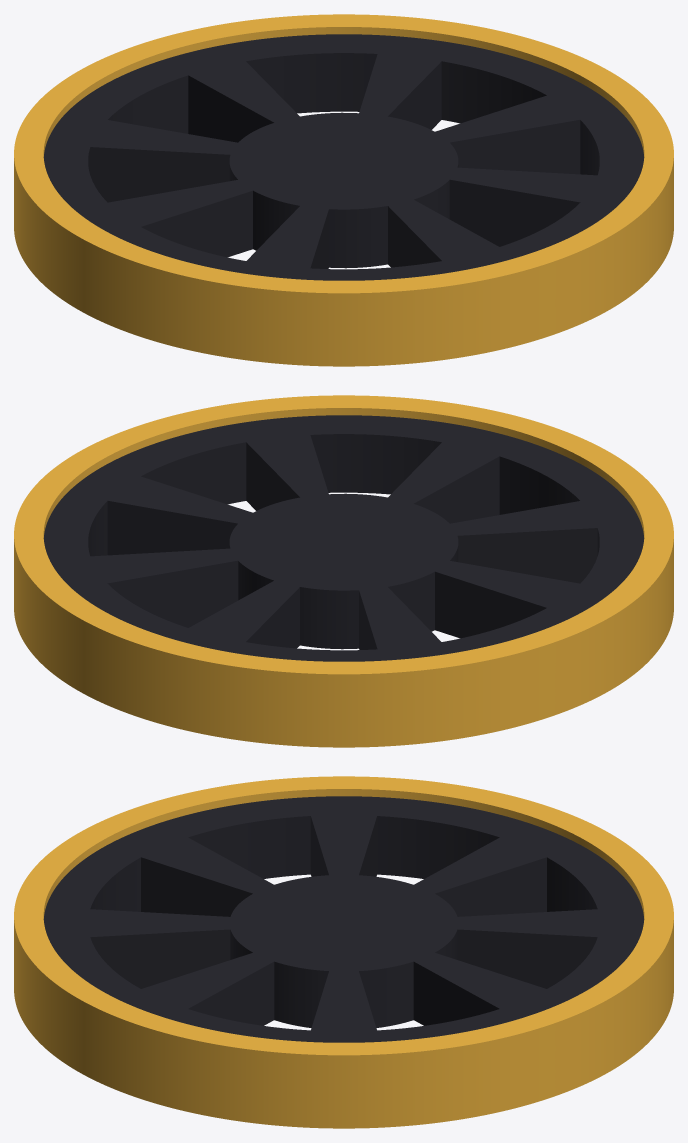
Rendered from KurumaGuard.fbx.
The picture shows the model from 3 angles, top to bottom: view 1: azimuth 30°, elevation 25°; view 2: azimuth 150°, elevation 25°; view 3: azimuth 270°, elevation 25°; orthographic projection.
Parts seen in each view (by area): view 1: KurumaCore, KurumaRim; view 2: KurumaCore, KurumaRim; view 3: KurumaCore, KurumaRim.
Part boxes in pixels (x1,y1,x2,y2): KurumaCore: [43, 34, 644, 280]; KurumaRim: [14, 14, 673, 366]; KurumaCore: [43, 415, 644, 661]; KurumaRim: [14, 395, 673, 747]; KurumaCore: [43, 796, 644, 1042]; KurumaRim: [14, 776, 673, 1128].
Bounding box in the file's own units: 0.49 × 0.06 × 0.49.
